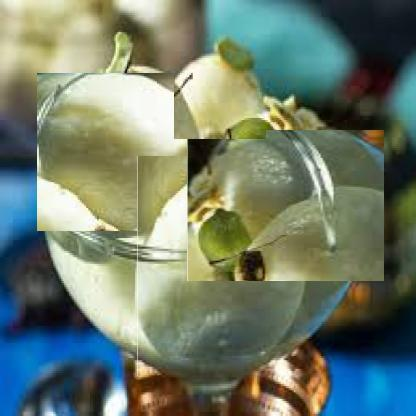rasgulla: (137, 156, 306, 376), (199, 118, 373, 293), (41, 69, 207, 236), (174, 55, 266, 139)
